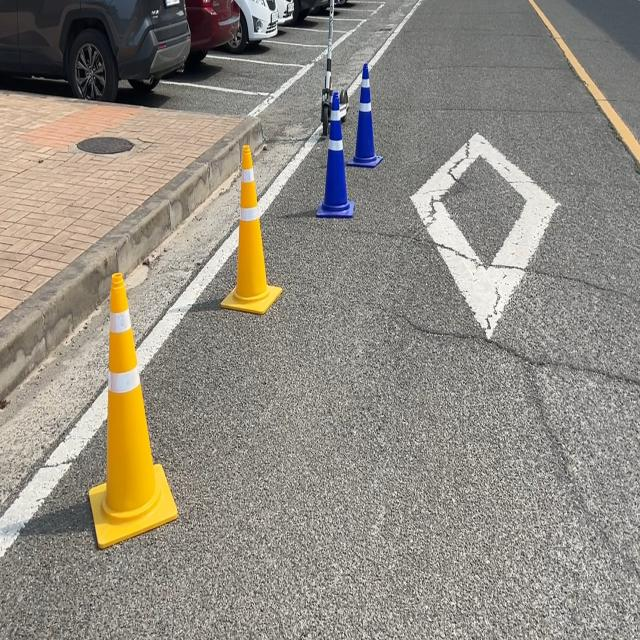b_rub: (317, 89, 355, 217), (347, 62, 383, 166)
y_rub: (88, 271, 177, 548), (221, 143, 282, 313)
